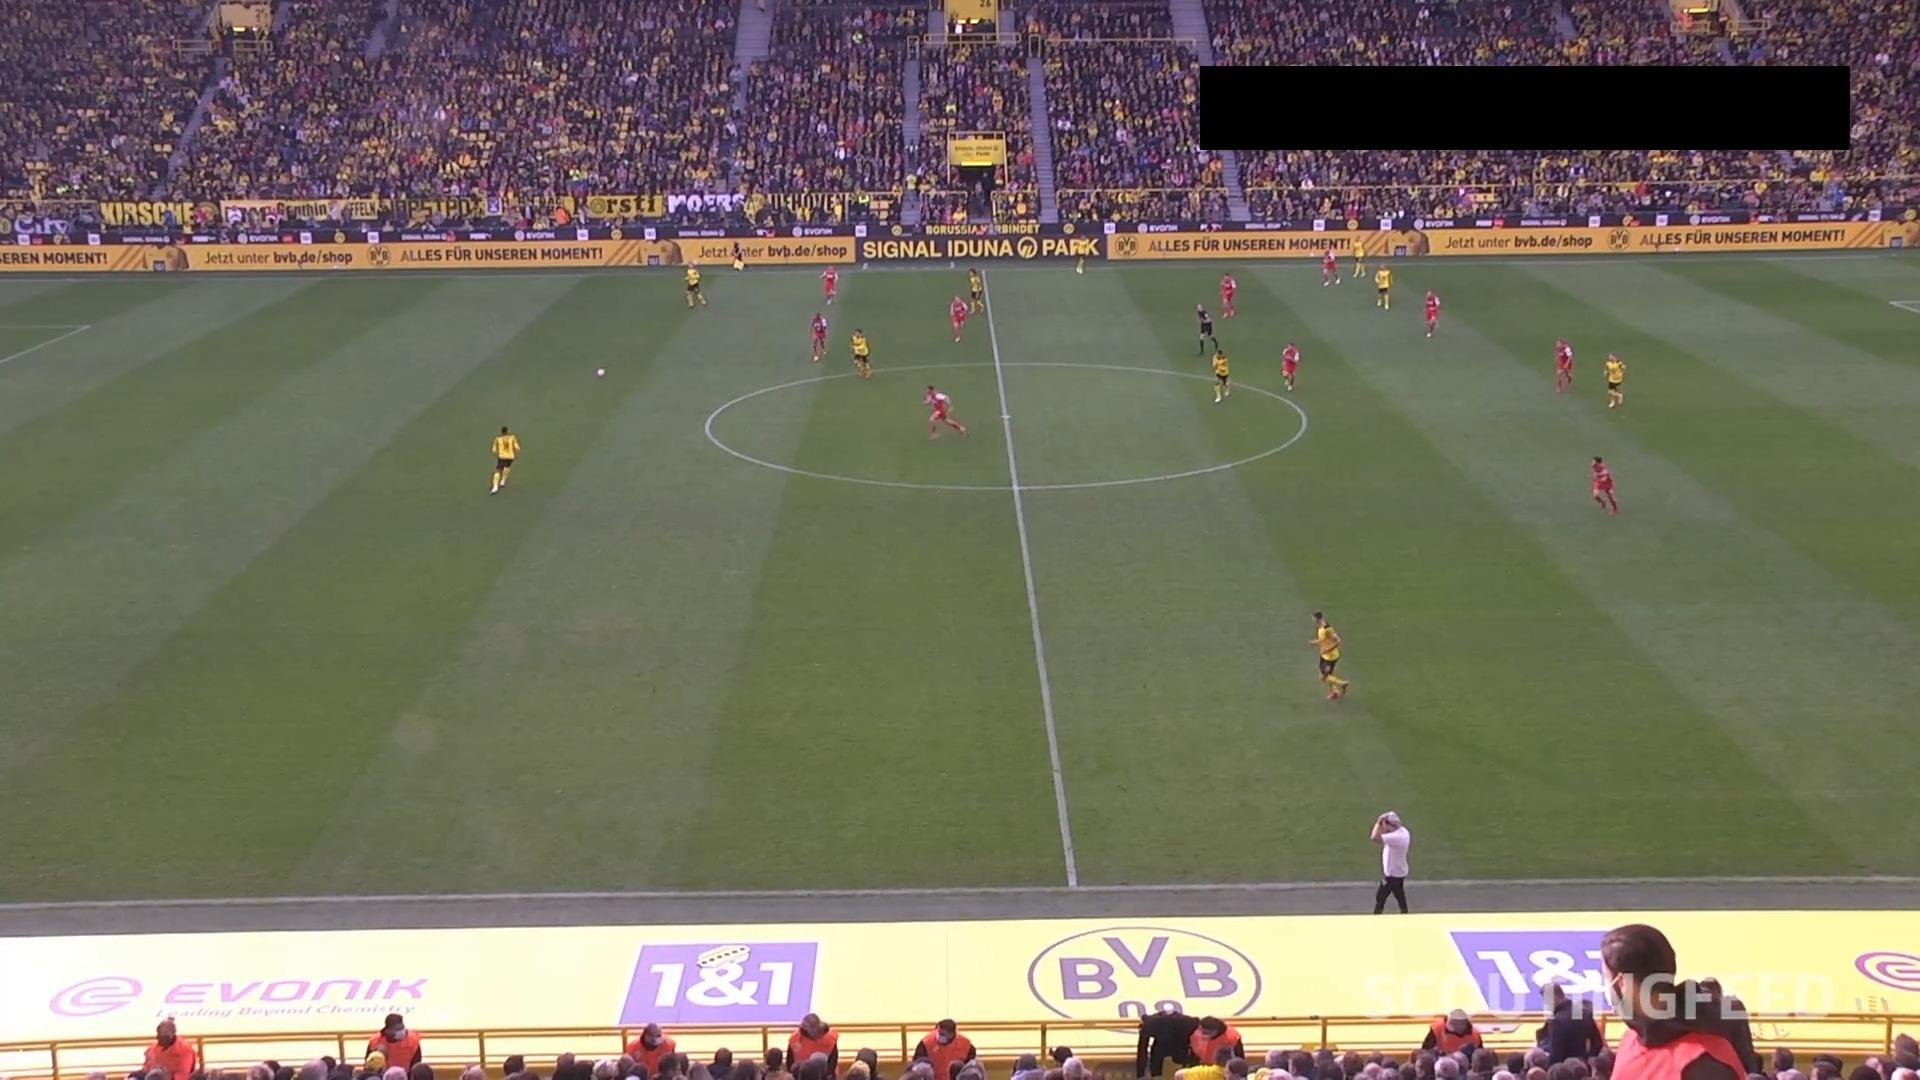ball: (595, 367, 608, 378)
